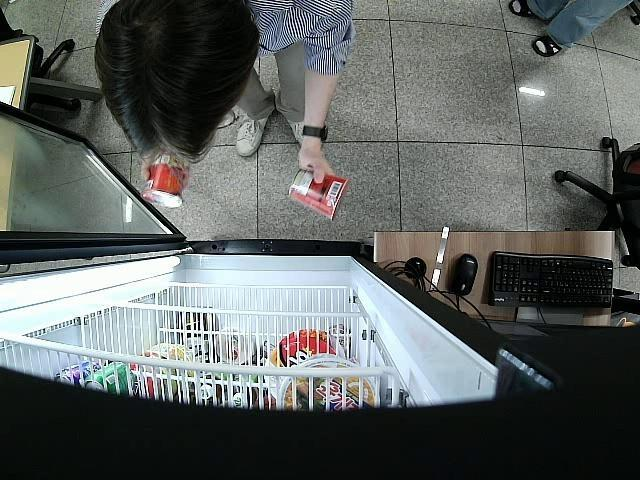02_shinRamen_S: (288, 171, 350, 220), (142, 152, 190, 208)
